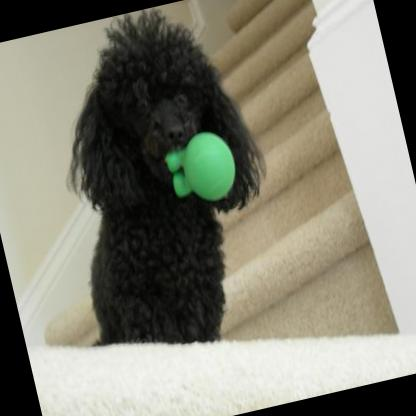toy_poodle: (22, 0, 301, 368)
